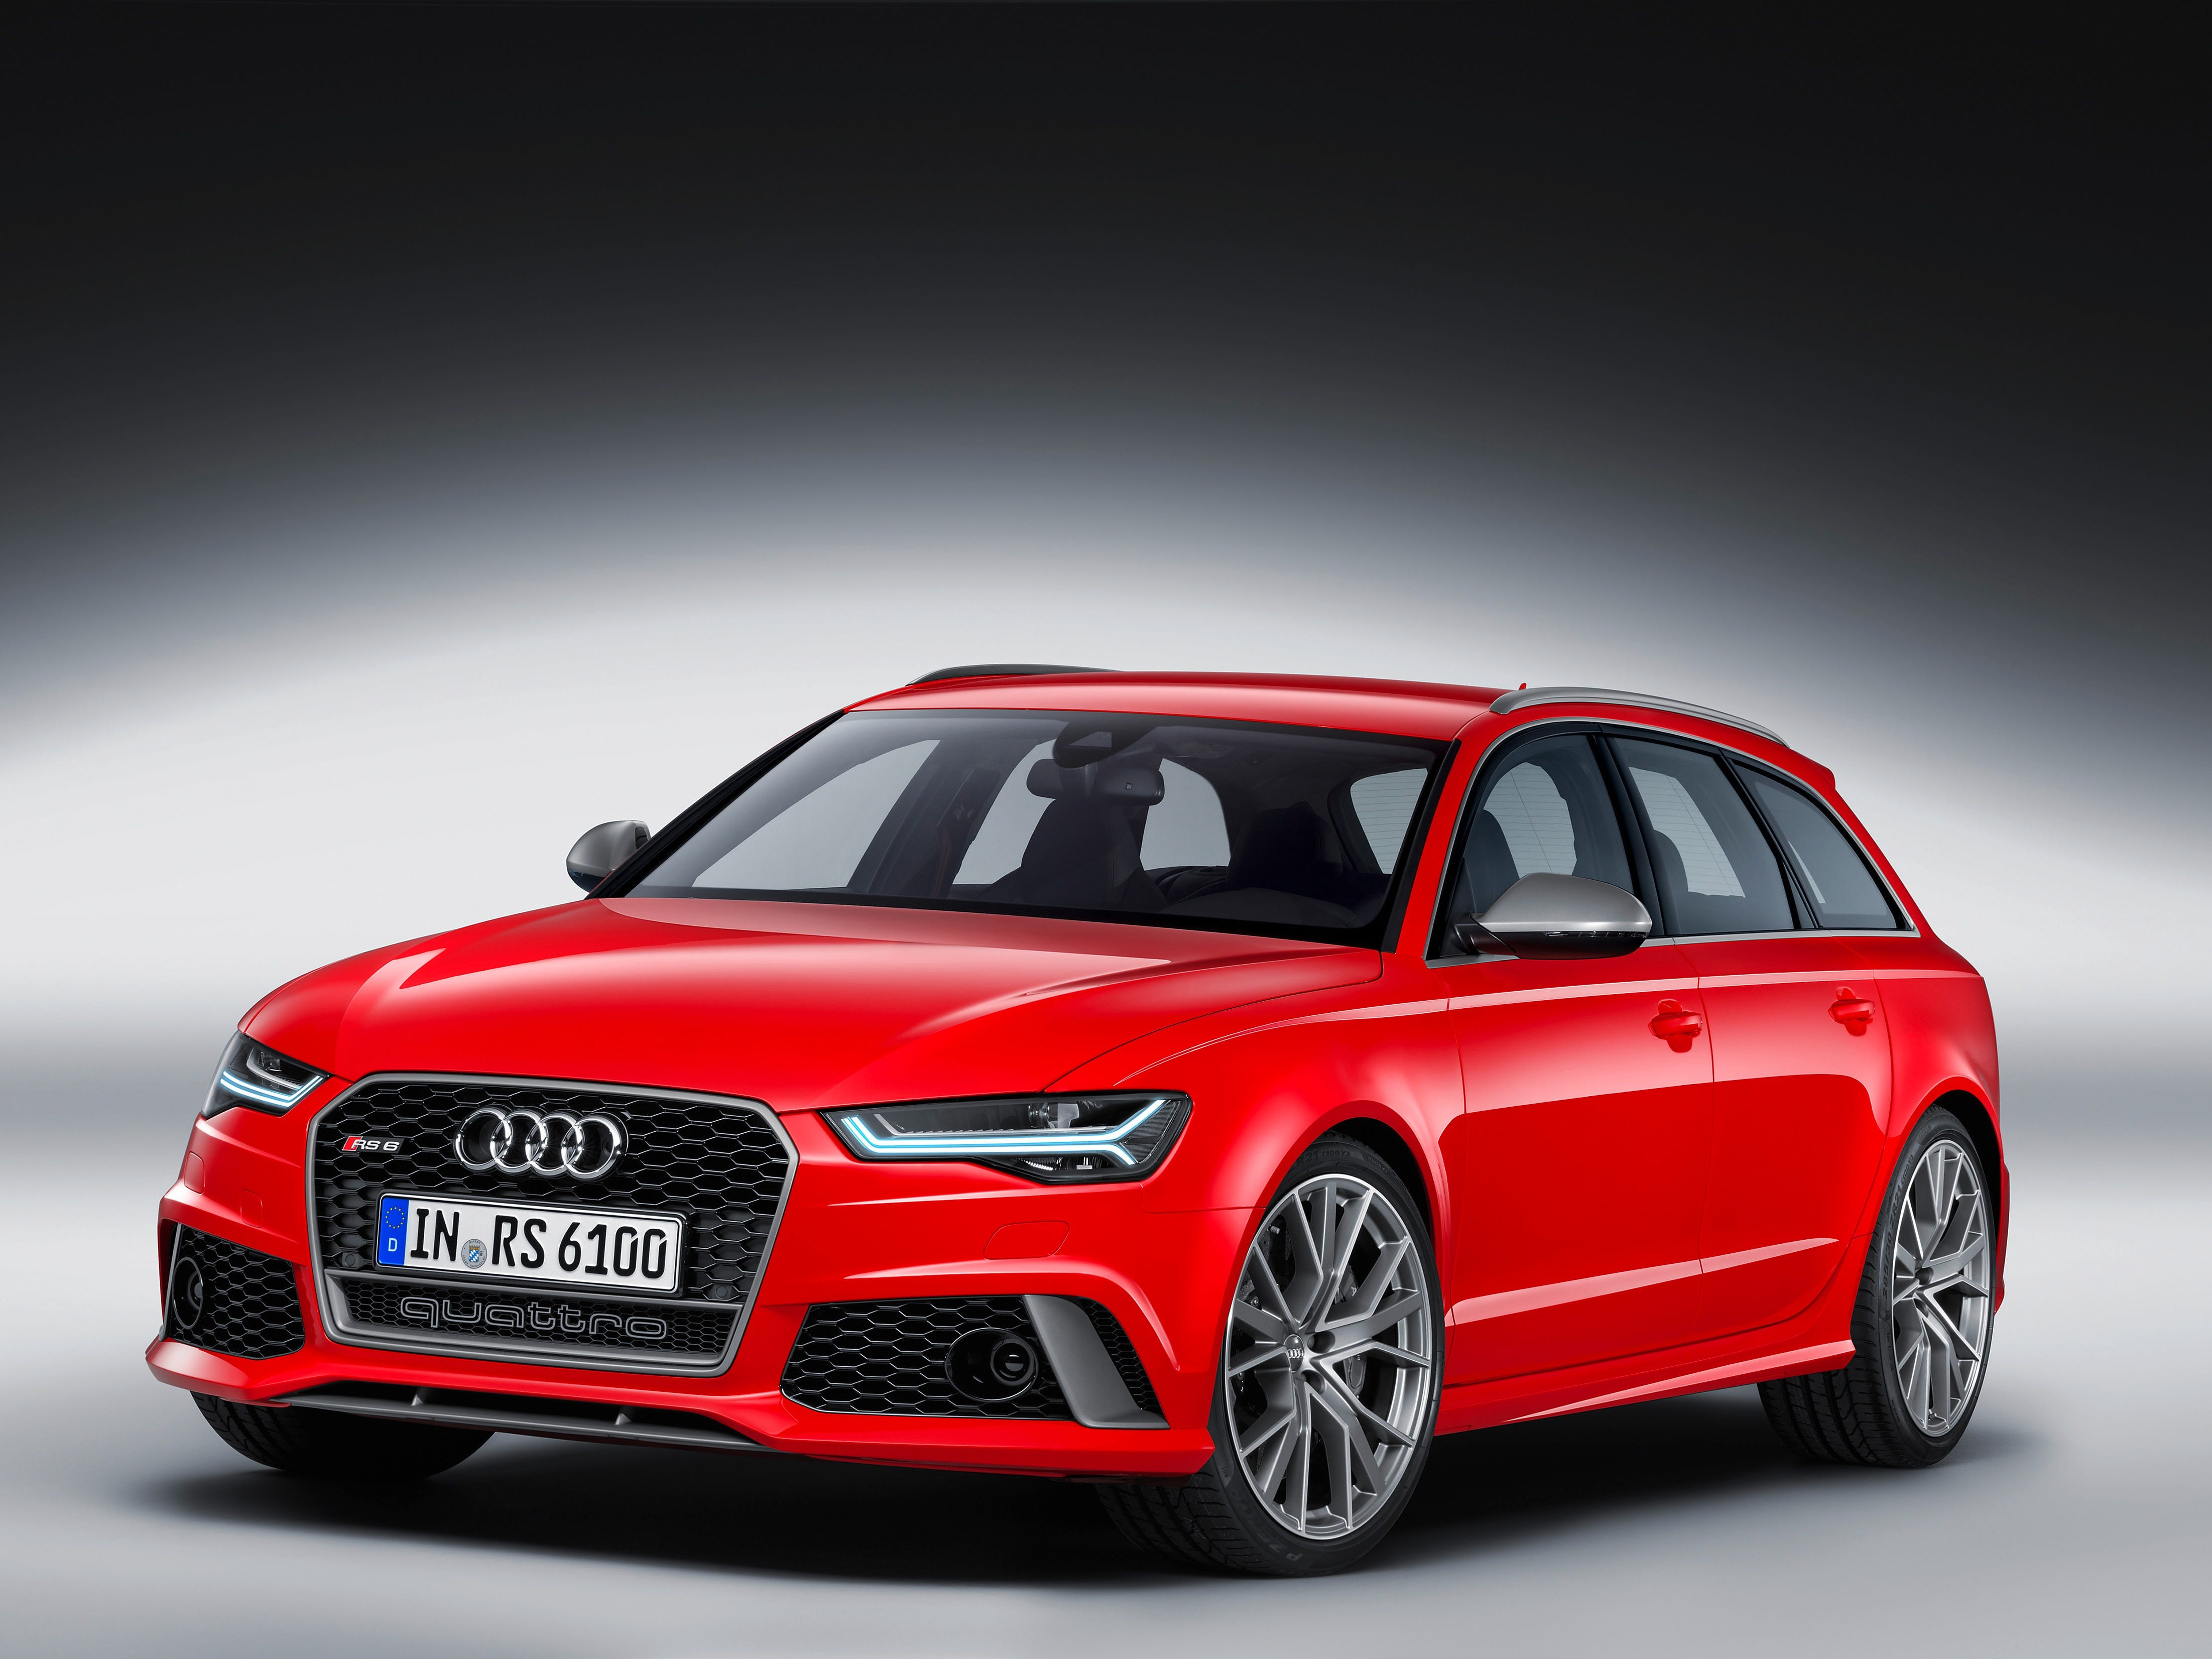car: (141, 662, 2010, 1582)
